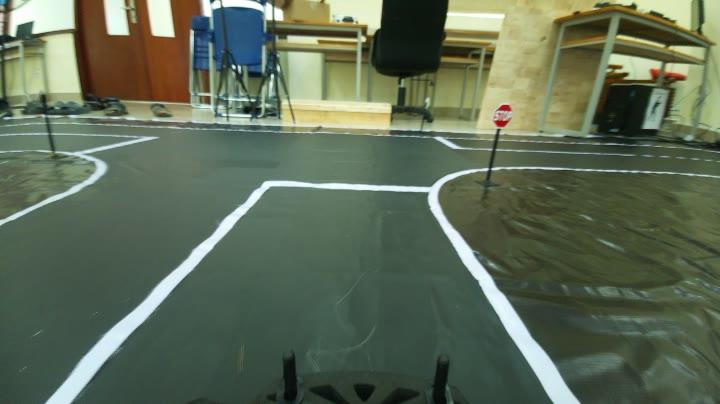stop: (489, 96, 518, 130)
